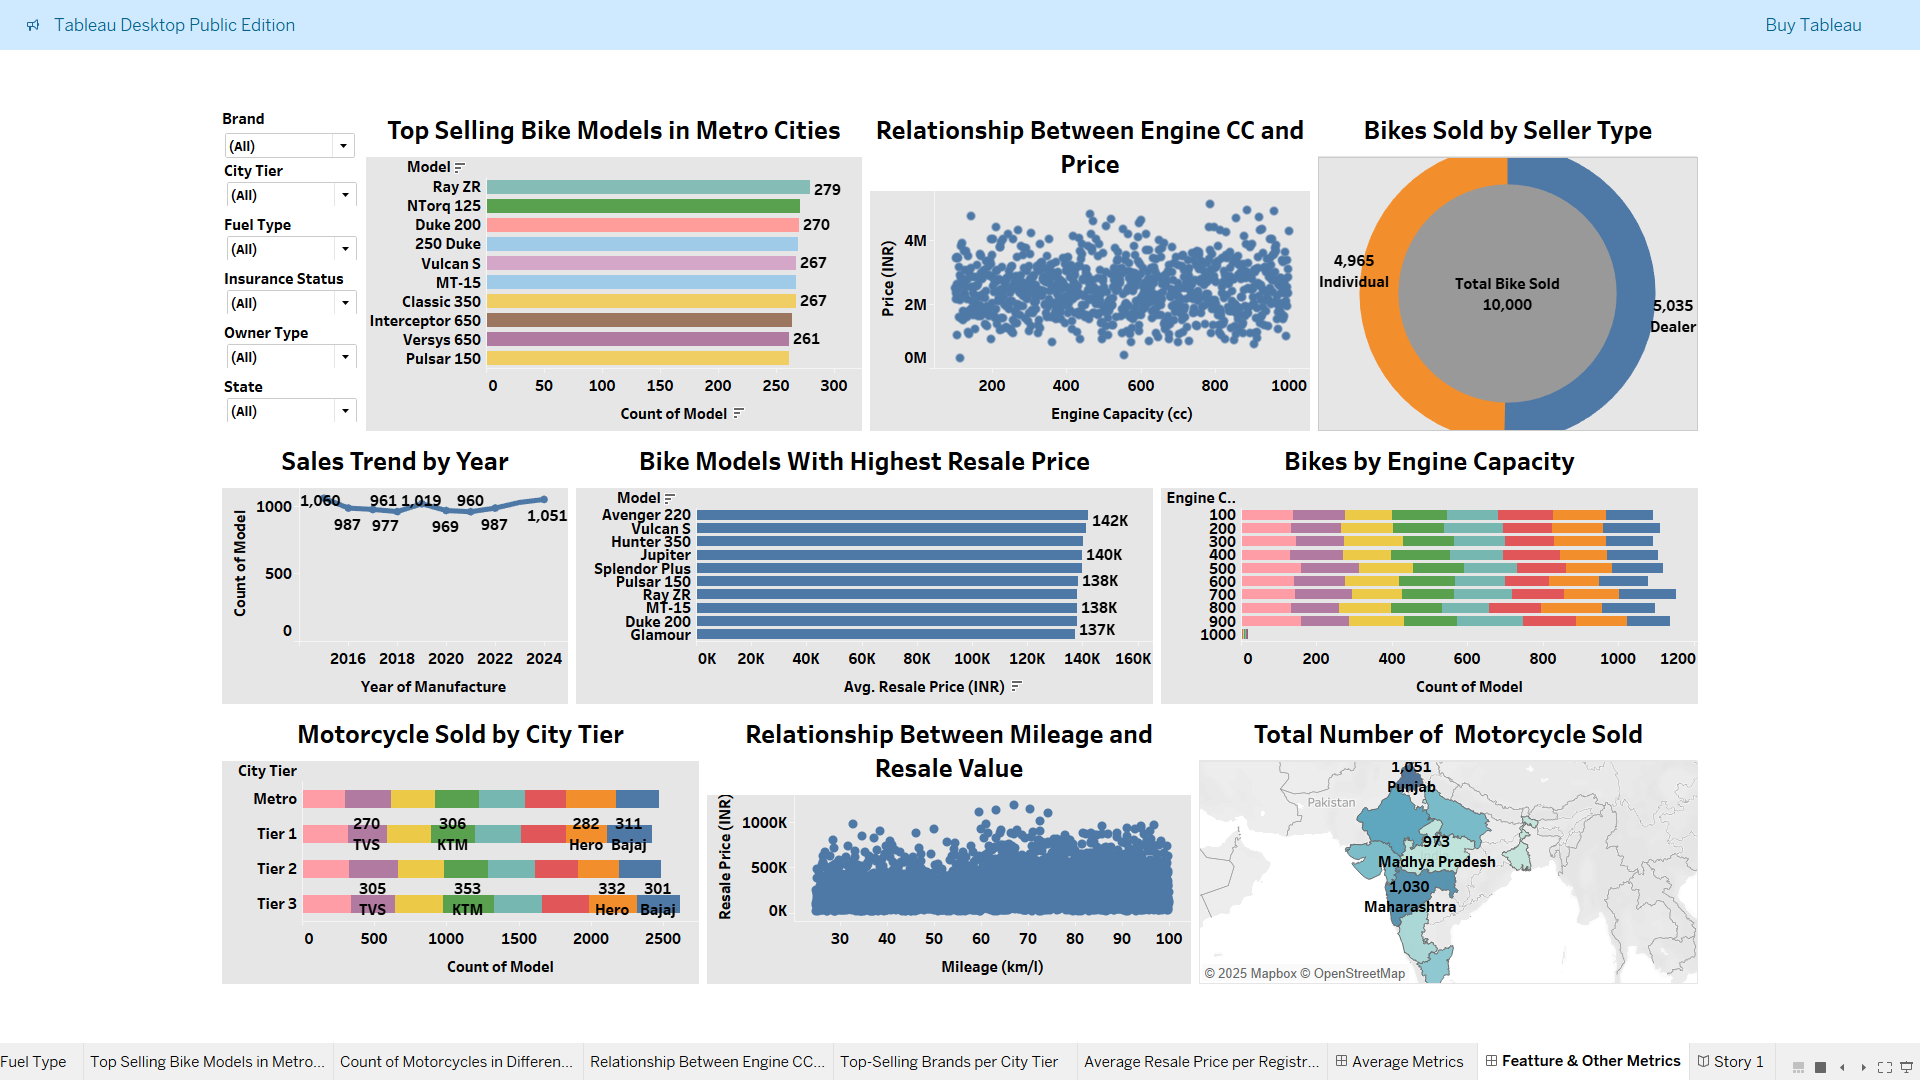

Layout of this report page (visuals, bound fields, positions):
{"tool":"tableau","page":{"name":"Featture & Other Metrics","canvas":[1500,900],"ordinal":1},"visuals":[{"type":"filter","title":"Sales Trend by Year","param":"[federated.0hxc69e11nsa2011g5ip81vb94xg].[none:Brand:nk]","box":[8,8,144,331]},{"type":"worksheet","title":"Top Selling Bike Models in Metro Cities","mark":"Bar","rows":["Model"],"cols":["Model"],"box":[152,8,504,331]},{"type":"worksheet","title":"Relationship Between Engine CC and Price","mark":"Circle","rows":["Price (INR)"],"cols":["Engine Capacity (cc)"],"box":[656,8,448,331]},{"type":"worksheet","title":"Bikes Sold by Seller Type","mark":"Pie","rows":["Calculation_551691005197447168","Calculation_551691005197447168"],"box":[1104,8,388,331]},{"type":"filter","title":"Bikes Sold by Seller Type","param":"[federated.0hxc69e11nsa2011g5ip81vb94xg].[none:City Tier:nk]","box":[10,60,144,54]},{"type":"filter","title":"Bike Models With Highest Resale Price","param":"[federated.0hxc69e11nsa2011g5ip81vb94xg].[none:Fuel Type:nk]","box":[10,114,144,54]},{"type":"filter","title":"Motorcycle Sold per State","param":"[federated.0hxc69e11nsa2011g5ip81vb94xg].[none:Insurance Status:nk]","box":[10,168,144,54]},{"type":"filter","title":"Motorcycle Sold per State","param":"[federated.0hxc69e11nsa2011g5ip81vb94xg].[none:Owner Type:nk]","box":[10,222,144,54]},{"type":"filter","title":"Bikes Sold by Seller Type","param":"[federated.0hxc69e11nsa2011g5ip81vb94xg].[none:State:nk]","box":[10,276,144,54]},{"type":"worksheet","title":"Sales Trend by Year","mark":"Automatic","rows":["Model"],"cols":["Year of Manufacture"],"box":[8,339,354,272.8]},{"type":"worksheet","title":"Bike Models With Highest Resale Price","mark":"Automatic","rows":["Model"],"cols":["Resale Price (INR)"],"box":[361.9,339,585,272.8]},{"type":"worksheet","title":"Count of Bikes by Engine Capacity","mark":"Bar","rows":["Engine Capacity (cc) (bin)"],"cols":["Model"],"box":[947,339,545,272.8]},{"type":"worksheet","title":"Motorcycle Sold by City Tier","mark":"Bar","rows":["City Tier"],"cols":["Model"],"box":[8,611.8,485,280.2]},{"type":"worksheet","title":"Relationship Between Mileage and Resale Value","mark":"Circle","rows":["Resale Price (INR)"],"cols":["Mileage (km/l)"],"box":[493,611.8,492,280.2]},{"type":"worksheet","title":"Motorcycle Sold per State","mark":"Automatic","box":[985,611.8,507,280.2]}]}

Visuals, with their boxes on the page's 1500x900 design canvas (x1, y1, x2, y2). These are canvas units, not pixel positions in the 1920x1080 screenshot, which may show the page scaled, cropped or inside an application window:
"Sales Trend by Year" filter: region(8, 8, 152, 339)
"Top Selling Bike Models in Metro Cities" worksheet (Bar marks): region(152, 8, 656, 339)
"Relationship Between Engine CC and Price" worksheet (Circle marks): region(656, 8, 1104, 339)
"Bikes Sold by Seller Type" worksheet (Pie marks): region(1104, 8, 1492, 339)
"Bikes Sold by Seller Type" filter: region(10, 60, 154, 114)
"Bike Models With Highest Resale Price" filter: region(10, 114, 154, 168)
"Motorcycle Sold per State" filter: region(10, 168, 154, 222)
"Motorcycle Sold per State" filter: region(10, 222, 154, 276)
"Bikes Sold by Seller Type" filter: region(10, 276, 154, 330)
"Sales Trend by Year" worksheet: region(8, 339, 362, 612)
"Bike Models With Highest Resale Price" worksheet: region(362, 339, 947, 612)
"Count of Bikes by Engine Capacity" worksheet (Bar marks): region(947, 339, 1492, 612)
"Motorcycle Sold by City Tier" worksheet (Bar marks): region(8, 612, 493, 892)
"Relationship Between Mileage and Resale Value" worksheet (Circle marks): region(493, 612, 985, 892)
"Motorcycle Sold per State" worksheet: region(985, 612, 1492, 892)
